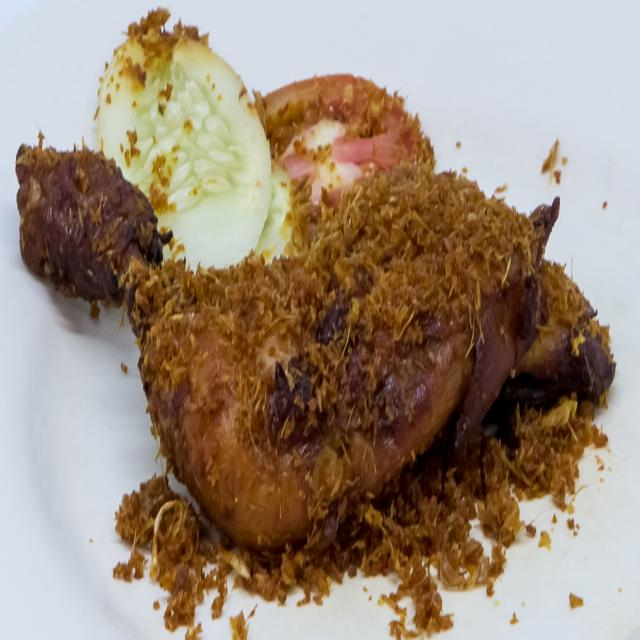Ayam-Goreng-Lengkuas: (8, 77, 622, 564)
